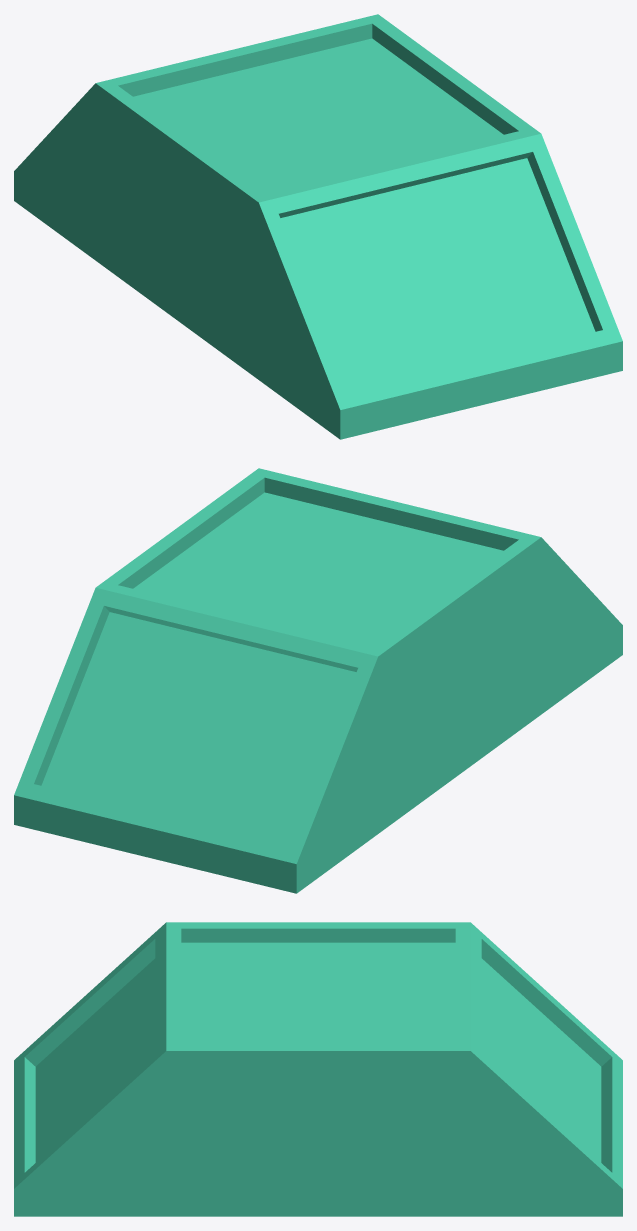
File: Floor_1x2m_C.FBX
The picture shows the model from 3 angles, top to bottom: view 1: azimuth 30°, elevation 25°; view 2: azimuth 150°, elevation 25°; view 3: azimuth 270°, elevation 25°; orthographic projection. The views are drawn at different scales.
Parts seen in each view (by area): view 1: Floor_1x2m_C; view 2: Floor_1x2m_C; view 3: Floor_1x2m_C.
Part boxes in pixels (box(x1,y1,x2,y2)): Floor_1x2m_C: box(14, 14, 622, 439); Floor_1x2m_C: box(14, 468, 622, 893); Floor_1x2m_C: box(14, 922, 622, 1216).
Size of the model in its own units: 100 by 60 by 200.
